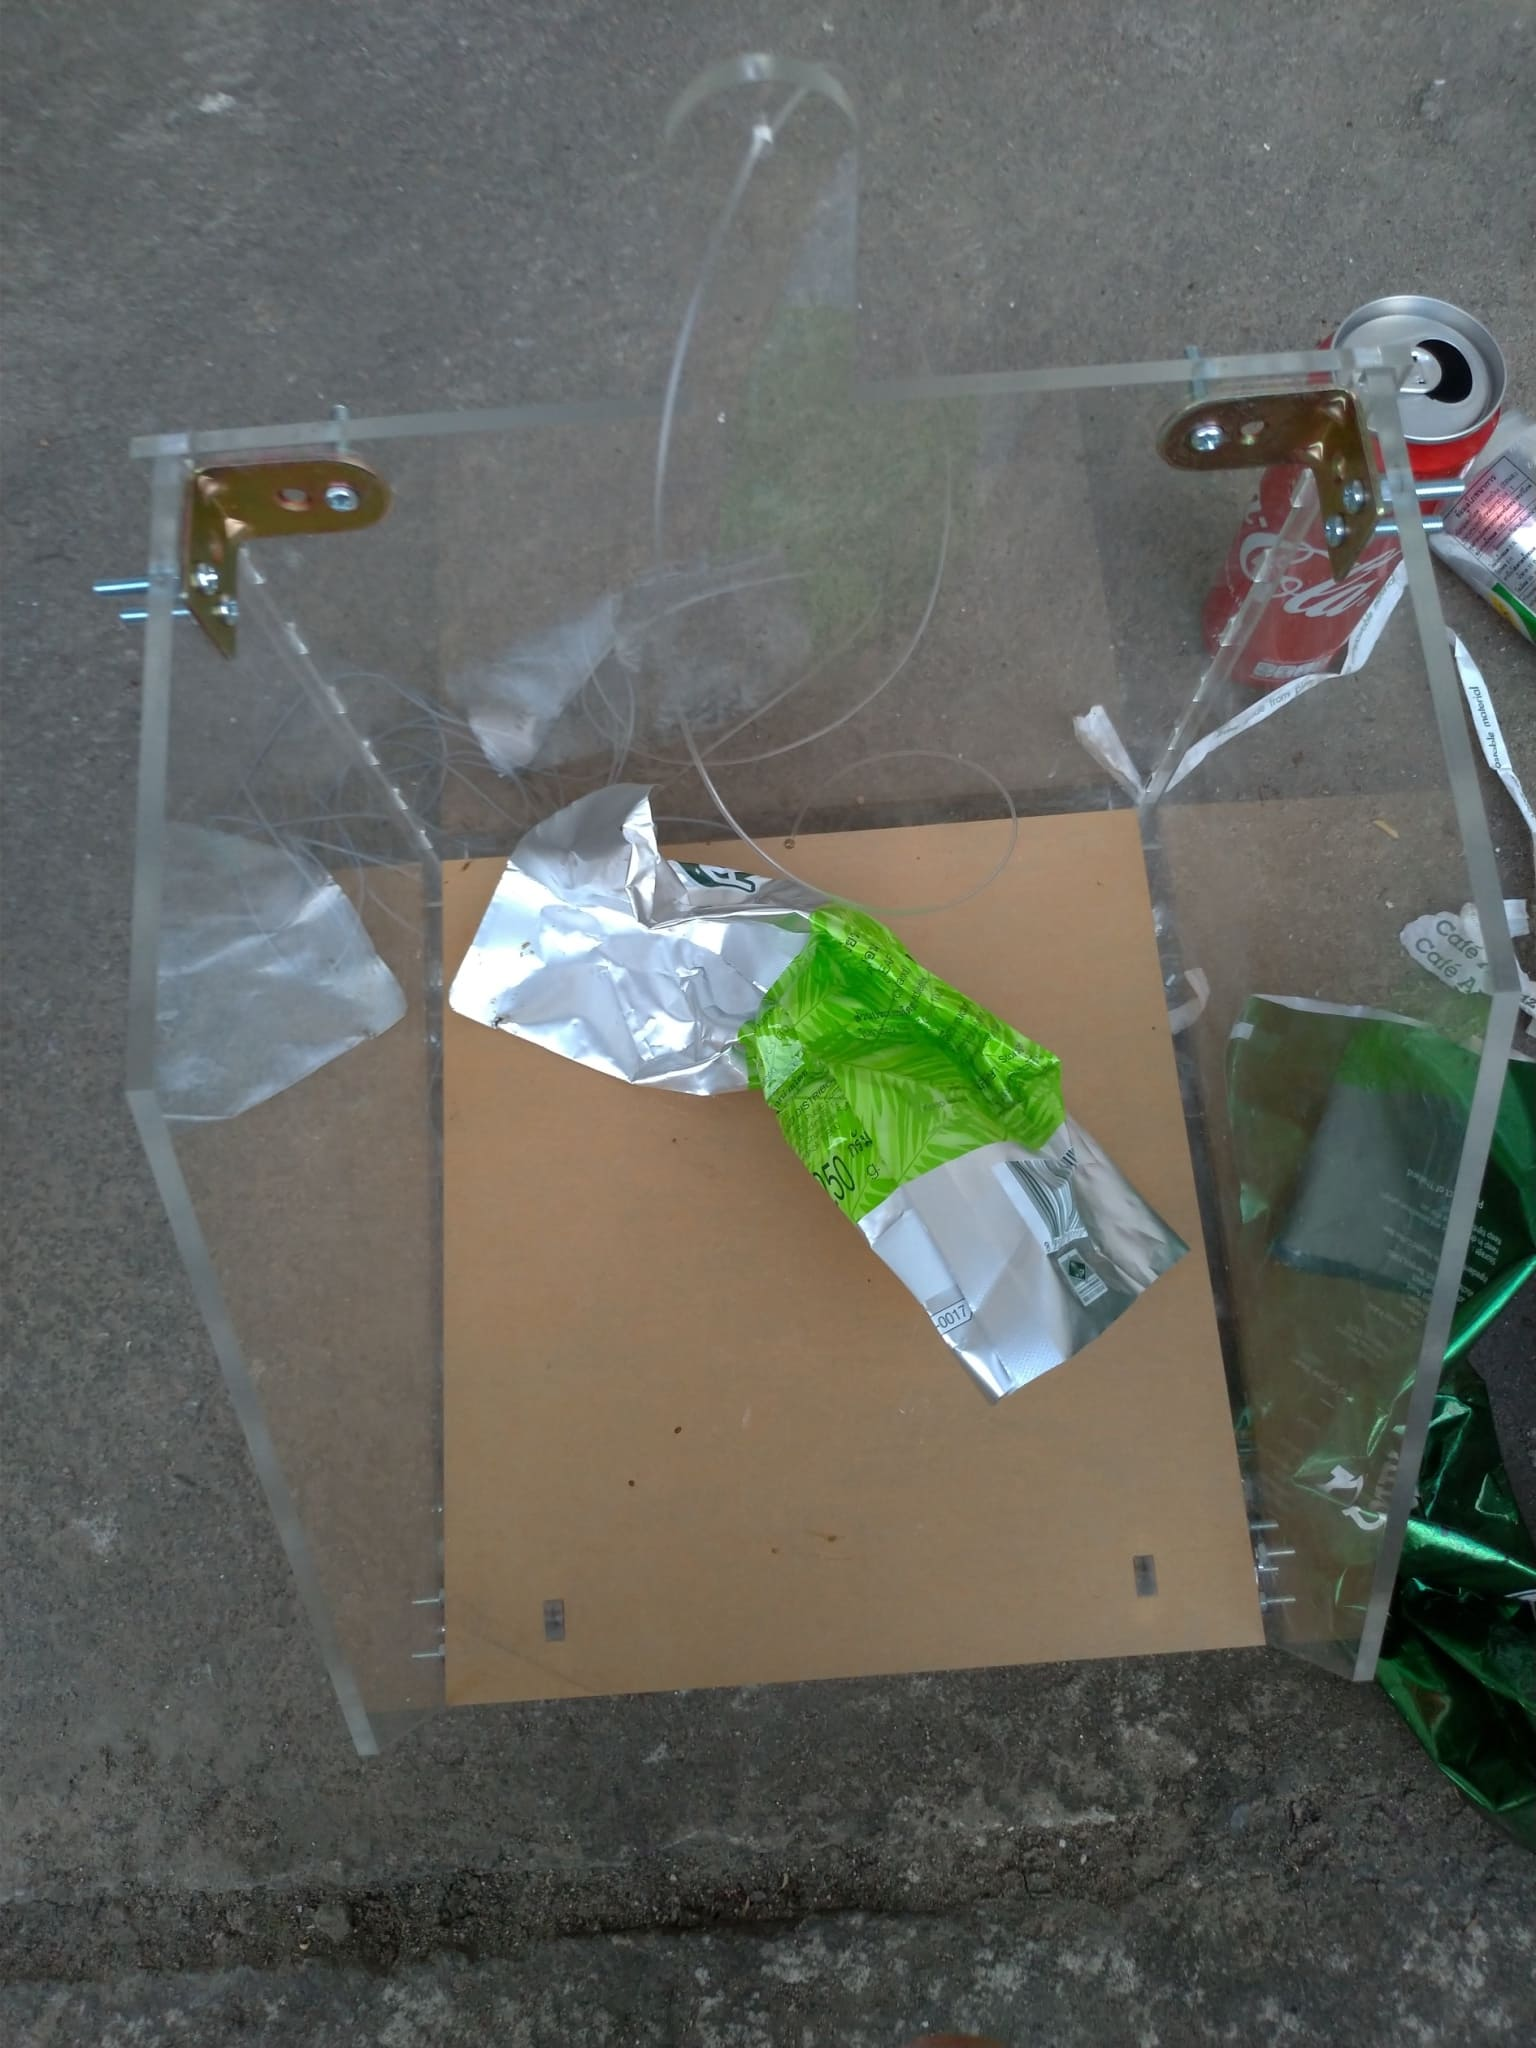AlCan: (1210, 292, 1507, 692), (1434, 411, 1536, 622)
Others: (432, 769, 1187, 1388), (1217, 992, 1536, 1838), (1083, 548, 1410, 814), (1413, 635, 1536, 980)
